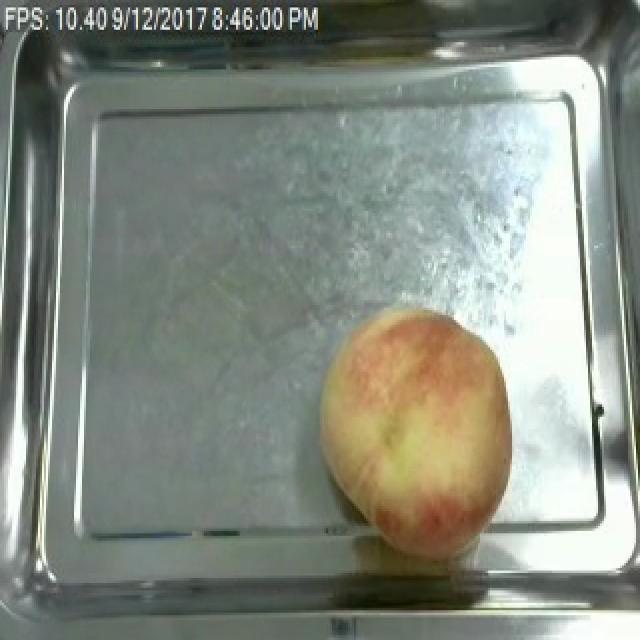Fruit: (308, 298, 520, 558)
